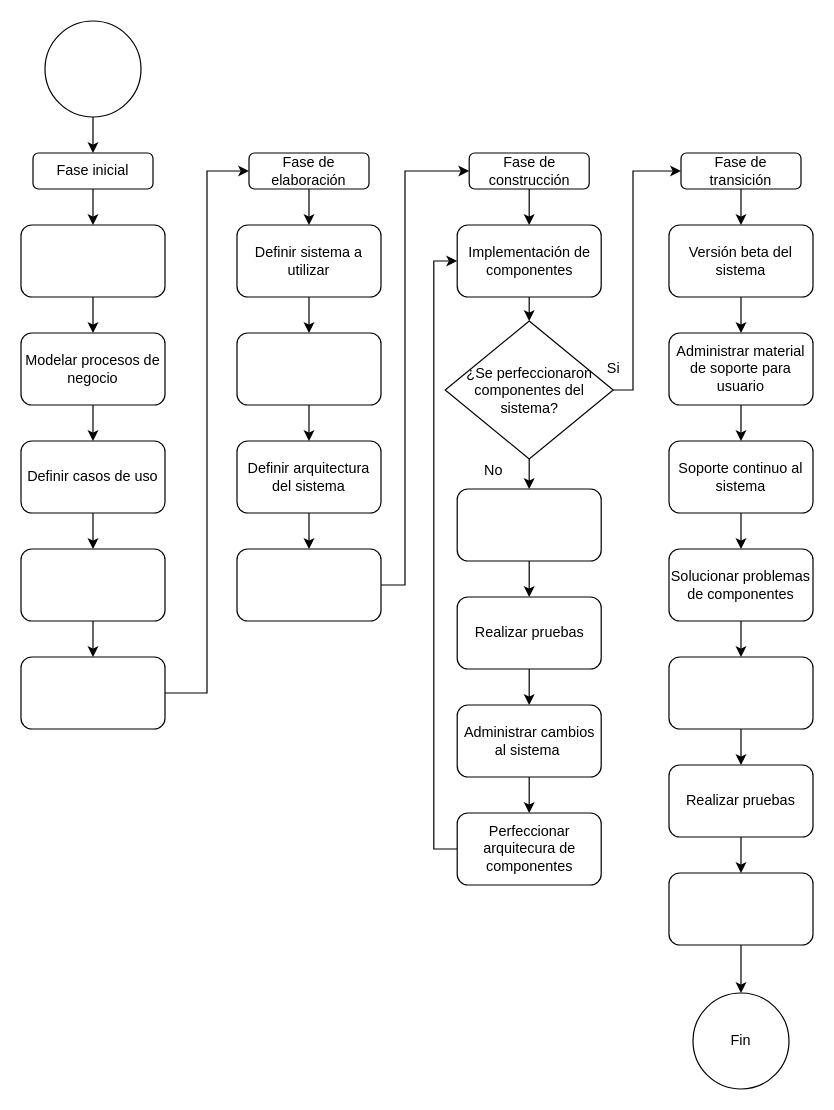
Image size: 834x1110. Some labels were removed from this diagram. The shapes that lost their labels are listed below. From the top down, each one's centre as x and y in pixels, then its label:
pixel 92 68: Inicio
pixel 92 260: Definir objetivo General y específicos
pixel 308 368: Levantamiento de requisitos
pixel 528 524: Validar arquitectura
pixel 92 584: Planear interacciones
pixel 308 584: Crear/Modificar modelo de diseño
pixel 92 692: Formalizar proyecto (Acta constitutiva)
pixel 740 692: Integrar componentes restantes
pixel 740 908: Release del producto
